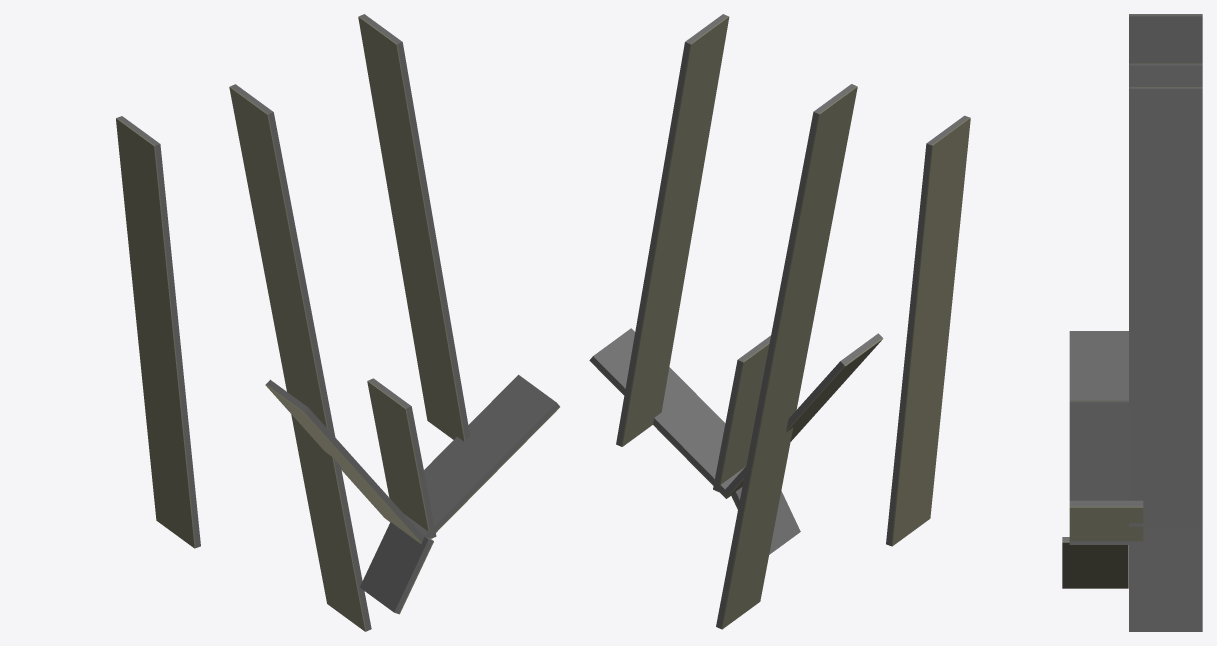
3 views of the same model, side by side, from view 1: azimuth 30°, elevation 25°; view 2: azimuth 150°, elevation 25°; view 3: azimuth 270°, elevation 25° (orthographic). The views are drawn at different scales.
Parts seen in each view (by area): view 1: STRUCTURAL_-_BEARING_PAINT_-_SAND_BEIGE, STRUCTURAL_-_BEARING_PAINT_-_LIGHT_GRAY; view 2: STRUCTURAL_-_BEARING_PAINT_-_SAND_BEIGE, STRUCTURAL_-_BEARING_PAINT_-_LIGHT_GRAY; view 3: STRUCTURAL_-_BEARING_PAINT_-_LIGHT_GRAY, STRUCTURAL_-_BEARING_PAINT_-_SAND_BEIGE.
Part boxes in pixels (x1,y1,x2,y2): STRUCTURAL_-_BEARING_PAINT_-_SAND_BEIGE: [116, 16, 559, 631]; STRUCTURAL_-_BEARING_PAINT_-_LIGHT_GRAY: [117, 14, 559, 631]; STRUCTURAL_-_BEARING_PAINT_-_SAND_BEIGE: [589, 16, 970, 629]; STRUCTURAL_-_BEARING_PAINT_-_LIGHT_GRAY: [590, 14, 969, 628]; STRUCTURAL_-_BEARING_PAINT_-_LIGHT_GRAY: [1062, 14, 1202, 631]; STRUCTURAL_-_BEARING_PAINT_-_SAND_BEIGE: [1062, 14, 1202, 588].
Bounding box in the file's own units: 22296 × 25948 × 5911.
